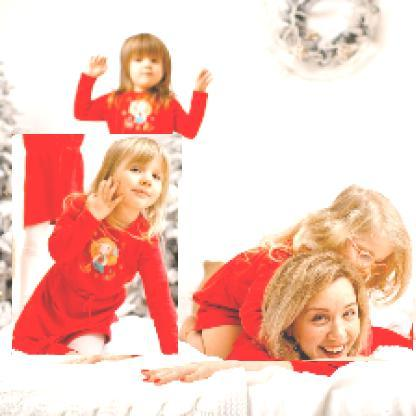child: (179, 183, 415, 363), (74, 33, 215, 310), (13, 135, 184, 357)
